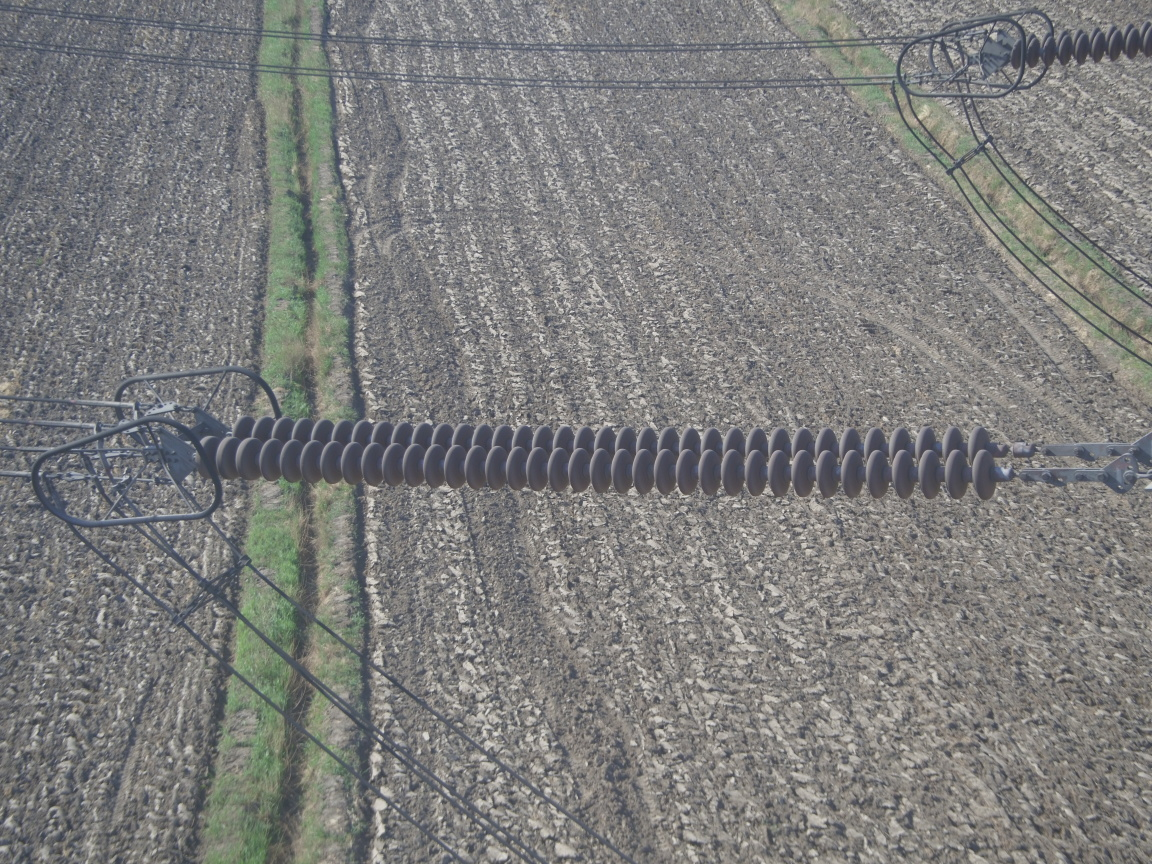insulator: (183, 406, 1100, 503), (995, 15, 1152, 81)
